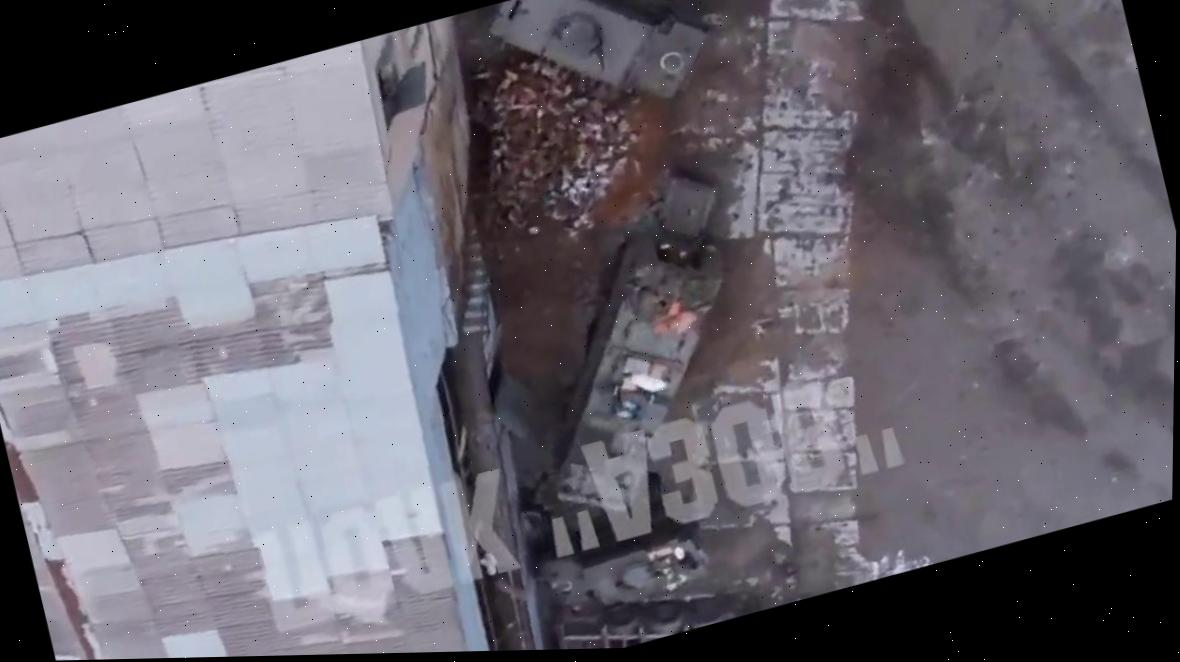armored_car: (483, 0, 726, 139), (531, 502, 716, 625)
truck: (483, 166, 803, 526)
